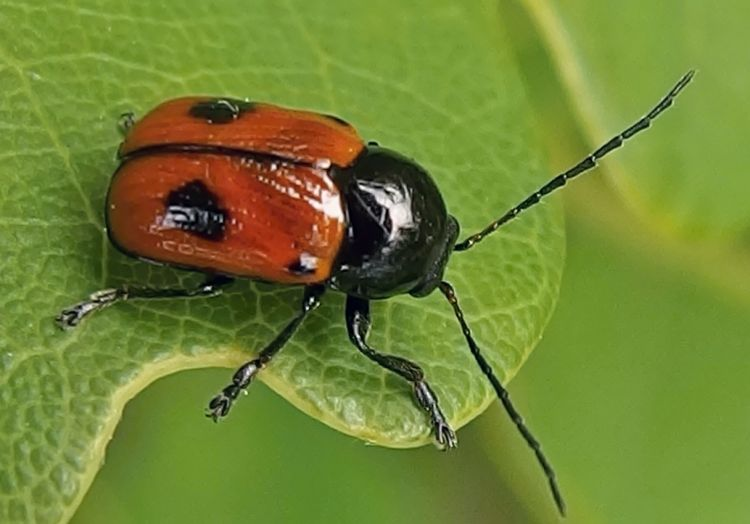Cryptocephalus_bipunctatus: (38, 47, 703, 518)
